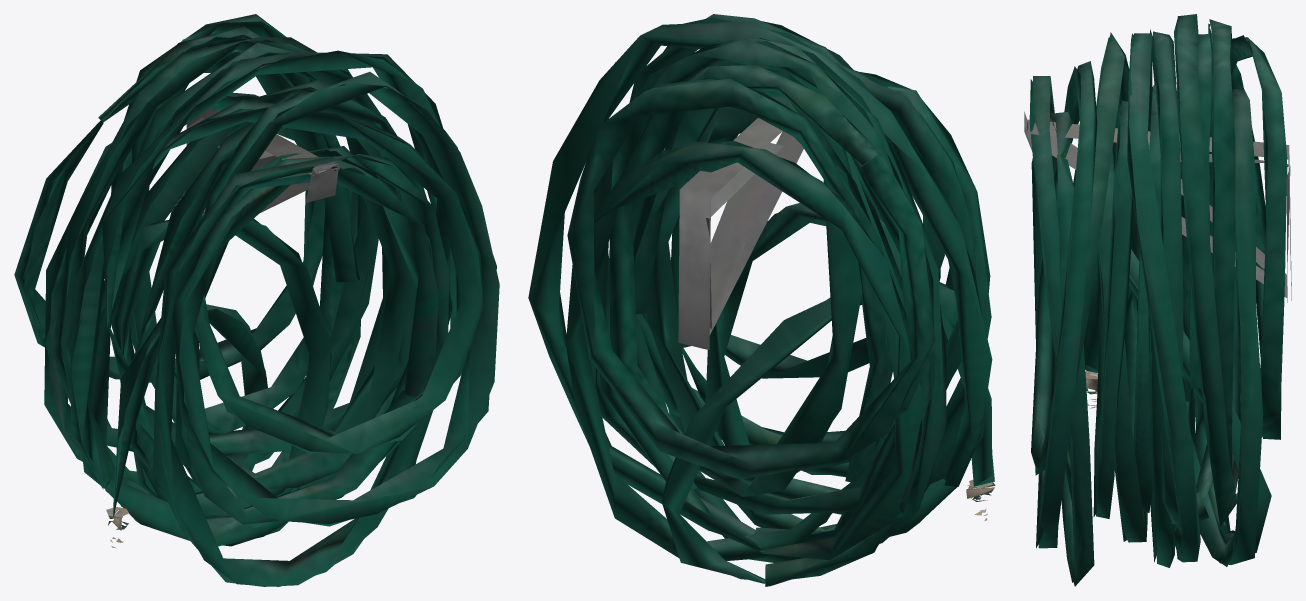
The model's file is garden_hose_wall_mounted_01.glb.
3 views of the same model, side by side, from view 1: azimuth 30°, elevation 25°; view 2: azimuth 150°, elevation 25°; view 3: azimuth 270°, elevation 25° (orthographic). The views are drawn at different scales.
Visible parts, largest first — view 1: garden_hose_wall_bracket; view 2: garden_hose_wall_bracket; view 3: garden_hose_wall_bracket.
Boxes of the visible parts, bbox=[...] form: garden_hose_wall_bracket: bbox=[14, 14, 499, 586]; garden_hose_wall_bracket: bbox=[528, 14, 995, 586]; garden_hose_wall_bracket: bbox=[1024, 14, 1291, 586].
Size of the model in its own units: 0.466 by 0.5569 by 0.2503.
Materials: 1 (1 with a texture image).
